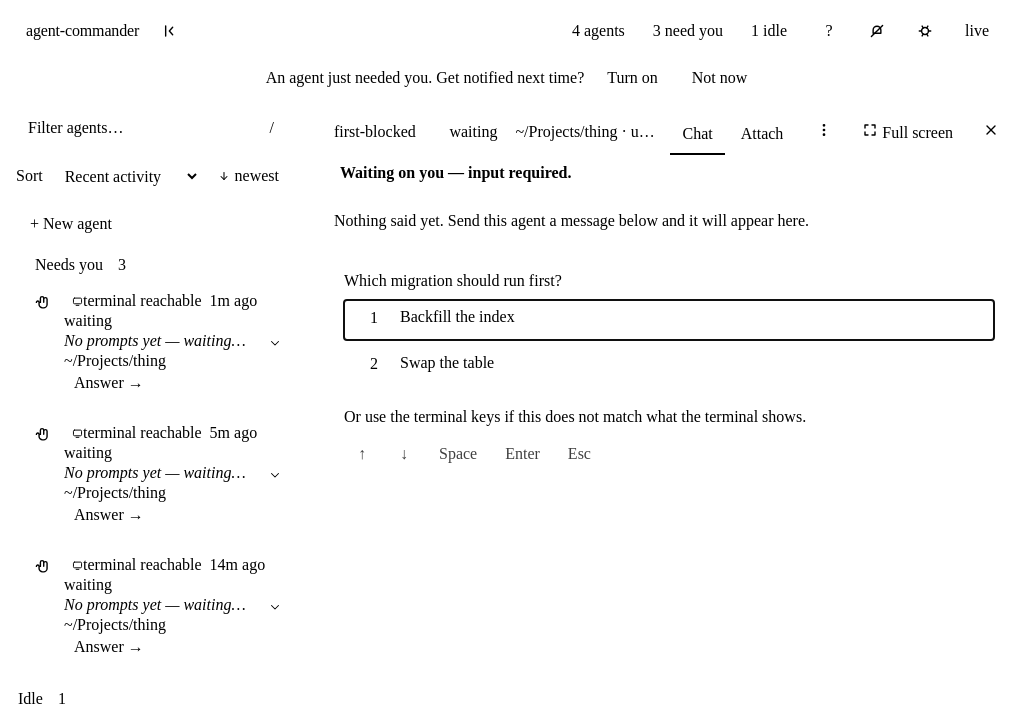
Test case: F3 the hand-off after an answer › names the agent blocked longest under the spent card, and goes nowhere by itself
Click the button with test id "answer-option" showing "1 Backfill the index".
click(457, 316)  # box [344,300,994,340]
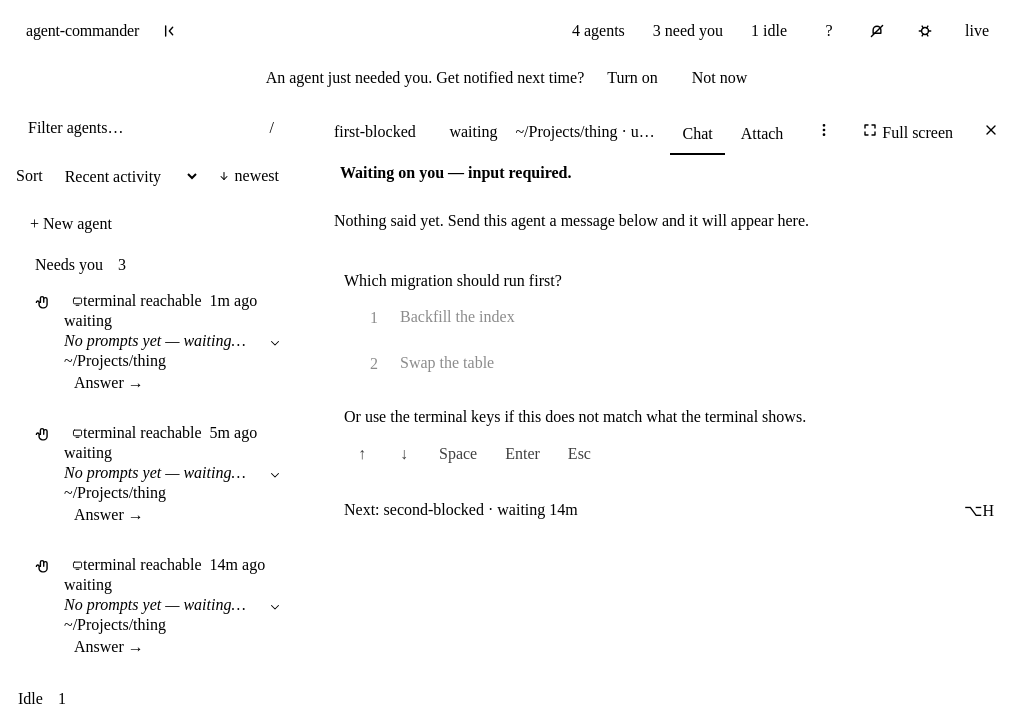
expect the button with test id "answer-next" shows "Next: second-blocked · waiting 14m": met, box [330,490,1008,530]
expect the button with test id "answer-next" shows "⌥H": met, box [330,490,1008,530]
